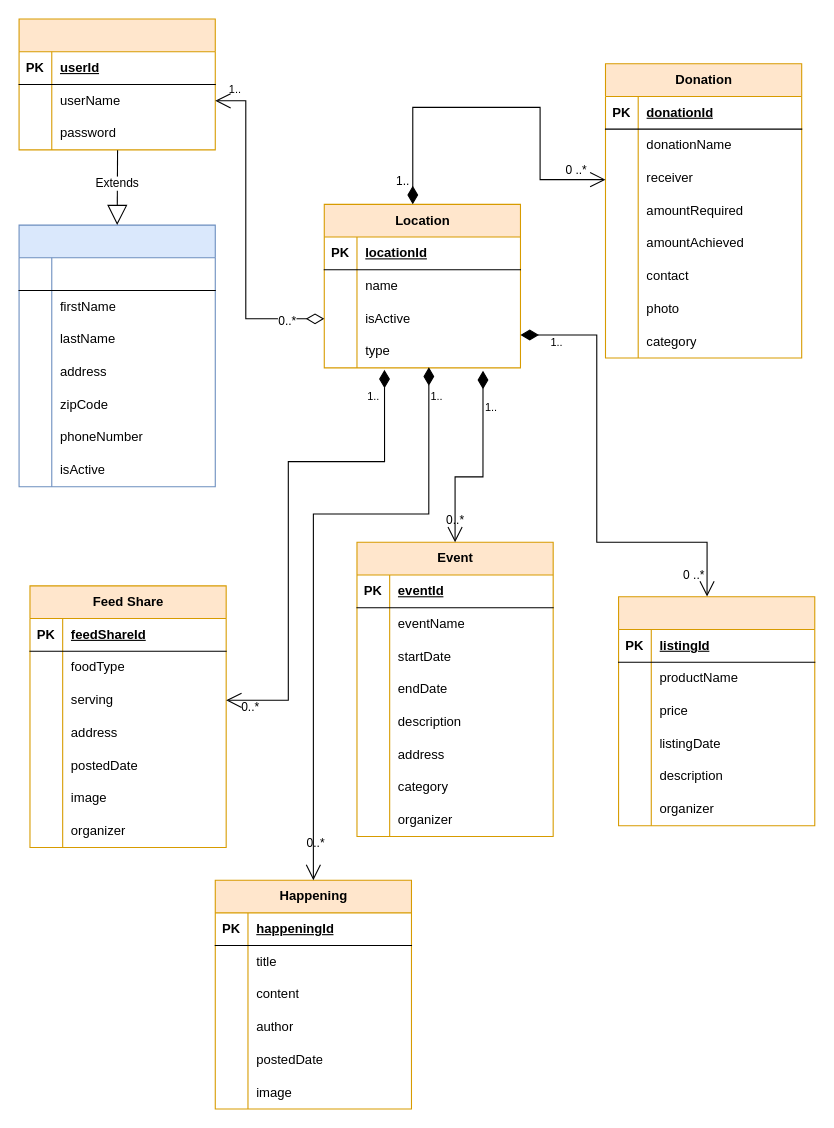
Some shapes in this 834 by 1128 pixel diagram are drawn without their labels. The shapes that lost their labels are listed below. From the top down, each one's box as (x1, y1, x2, y2) in pixels, then its label:
(18, 18, 215, 150): User Details
(18, 224, 215, 487): Person
(617, 596, 815, 826): Marketplace
